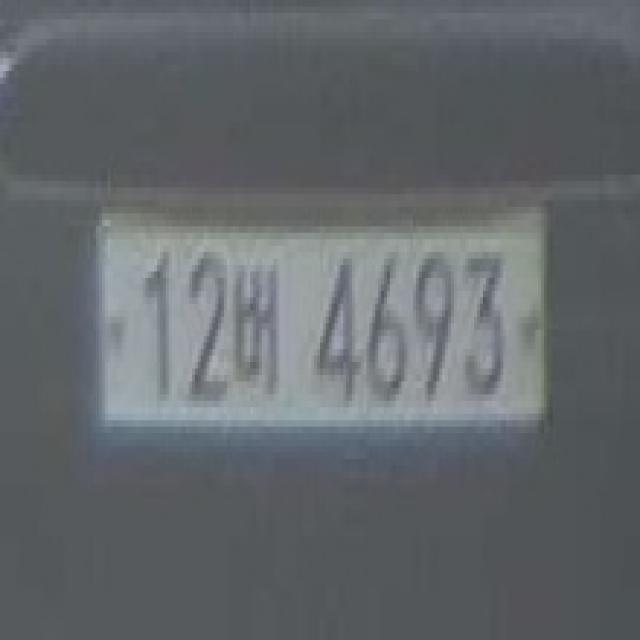1: (140, 246, 180, 420)
2: (186, 246, 233, 414)
3: (460, 239, 509, 407)
4: (317, 259, 364, 420)
6: (364, 252, 413, 414)
9: (410, 246, 460, 420)
beo: (233, 252, 291, 414)
license_plate: (87, 194, 559, 465)
